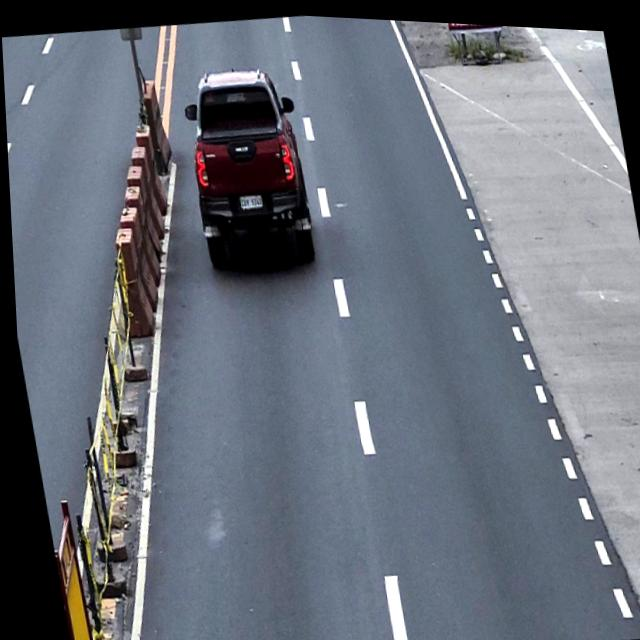Car: (173, 55, 319, 272)
License-Plate: (235, 188, 262, 209)
